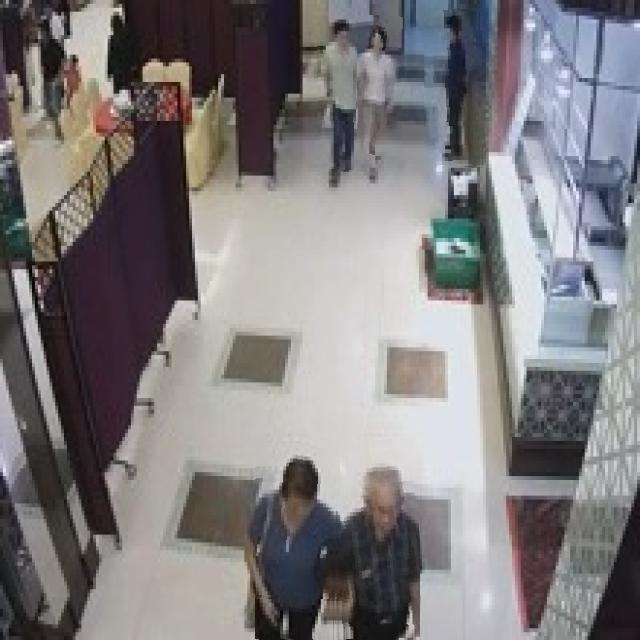Normal: (330, 438, 420, 640), (255, 441, 338, 640), (424, 8, 485, 167), (357, 16, 401, 156), (317, 21, 356, 171)
